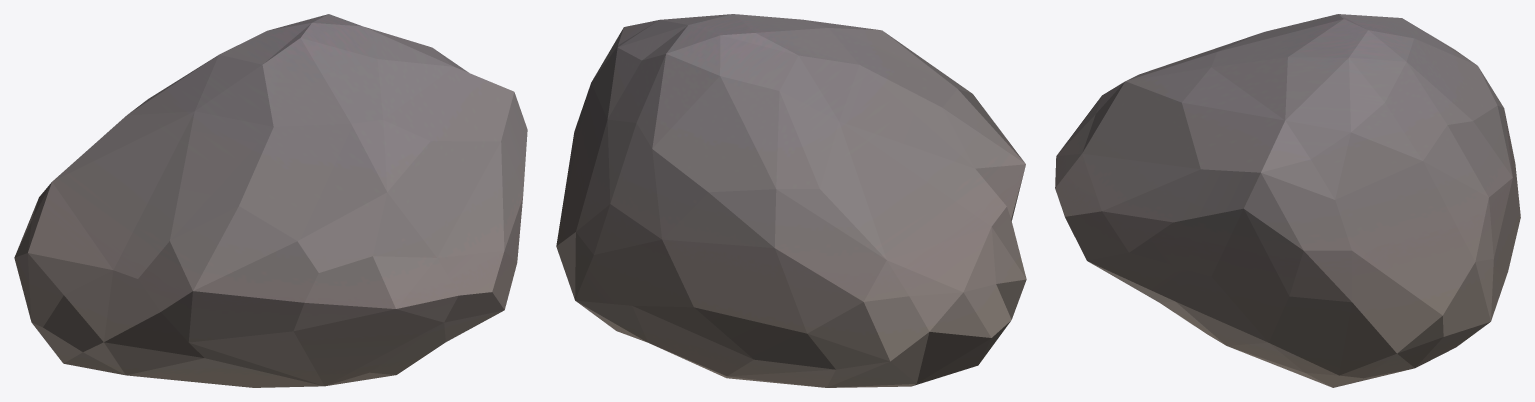
The picture shows the model from 3 angles, left to right: view 1: azimuth 30°, elevation 25°; view 2: azimuth 150°, elevation 25°; view 3: azimuth 270°, elevation 25°; orthographic projection. The views are drawn at different scales.
Parts seen in each view (by area): view 1: RockGrey2_high; view 2: RockGrey2_high; view 3: RockGrey2_high.
Boxes of the visible parts, <box> form: RockGrey2_high: <box>14,14,527,387</box>; RockGrey2_high: <box>556,14,1026,387</box>; RockGrey2_high: <box>1055,14,1520,387</box>.
Bounding box in the file's own units: 60 × 41.53 × 52.99.
Materials: 1 (1 with a texture image).
